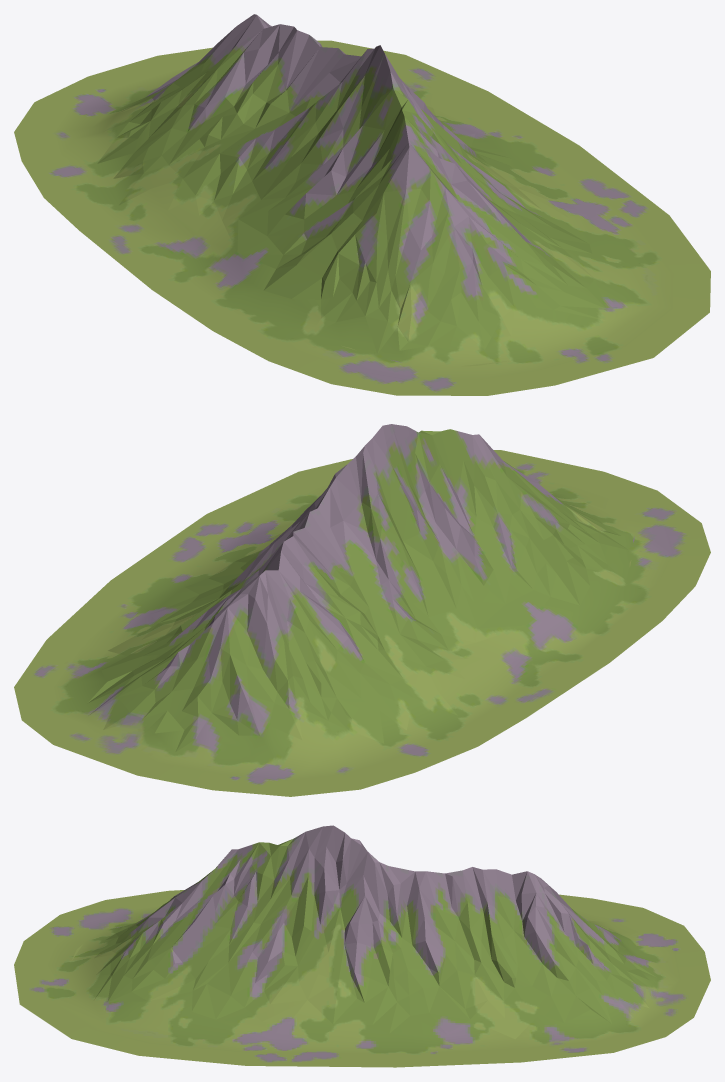
File: build_mountain_A.FBX
3 views of the same model, one above another, from view 1: azimuth 30°, elevation 25°; view 2: azimuth 150°, elevation 25°; view 3: azimuth 270°, elevation 25° (orthographic). The views are drawn at different scales.
Parts seen in each view (by area): view 1: mountain_C_grass_LOD0_0, mountain_C_grass_edge_LOD0_0; view 2: mountain_C_grass_LOD0_0, mountain_C_grass_edge_LOD0_0; view 3: mountain_C_grass_LOD0_0, mountain_C_grass_edge_LOD0_0.
Boxes of the visible parts, <box> form: mountain_C_grass_LOD0_0: <box>52,14,673,379</box>; mountain_C_grass_edge_LOD0_0: <box>14,40,710,395</box>; mountain_C_grass_LOD0_0: <box>51,424,673,780</box>; mountain_C_grass_edge_LOD0_0: <box>14,450,710,796</box>; mountain_C_grass_LOD0_0: <box>44,825,680,1054</box>; mountain_C_grass_edge_LOD0_0: <box>14,890,710,1067</box>.
Bounding box in the file's own units: 17.24 × 6.59 × 27.86.
